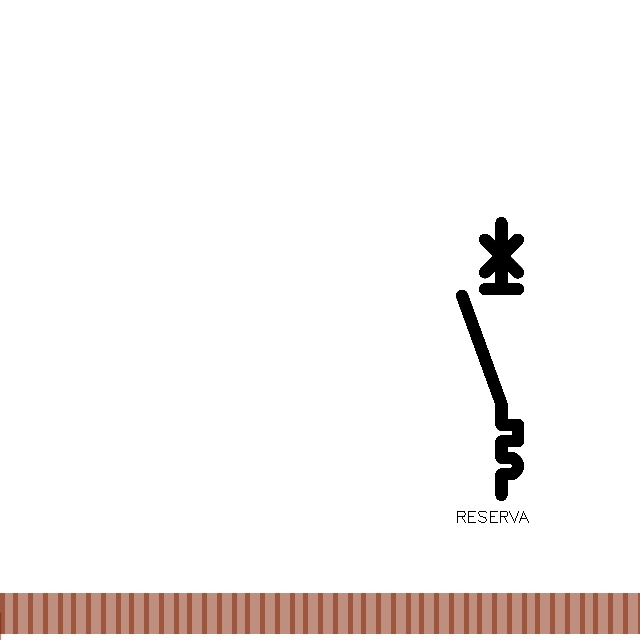interruptor_termomagnetico: (455, 216, 525, 502)
